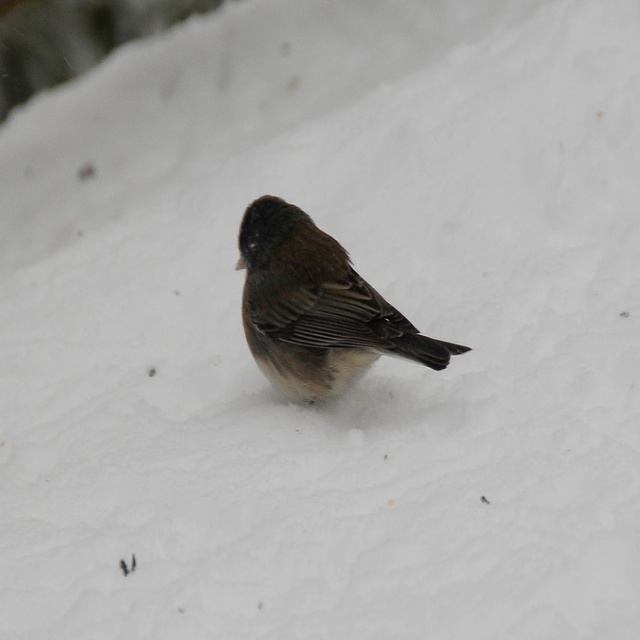Sparrow: (235, 194, 473, 406)
